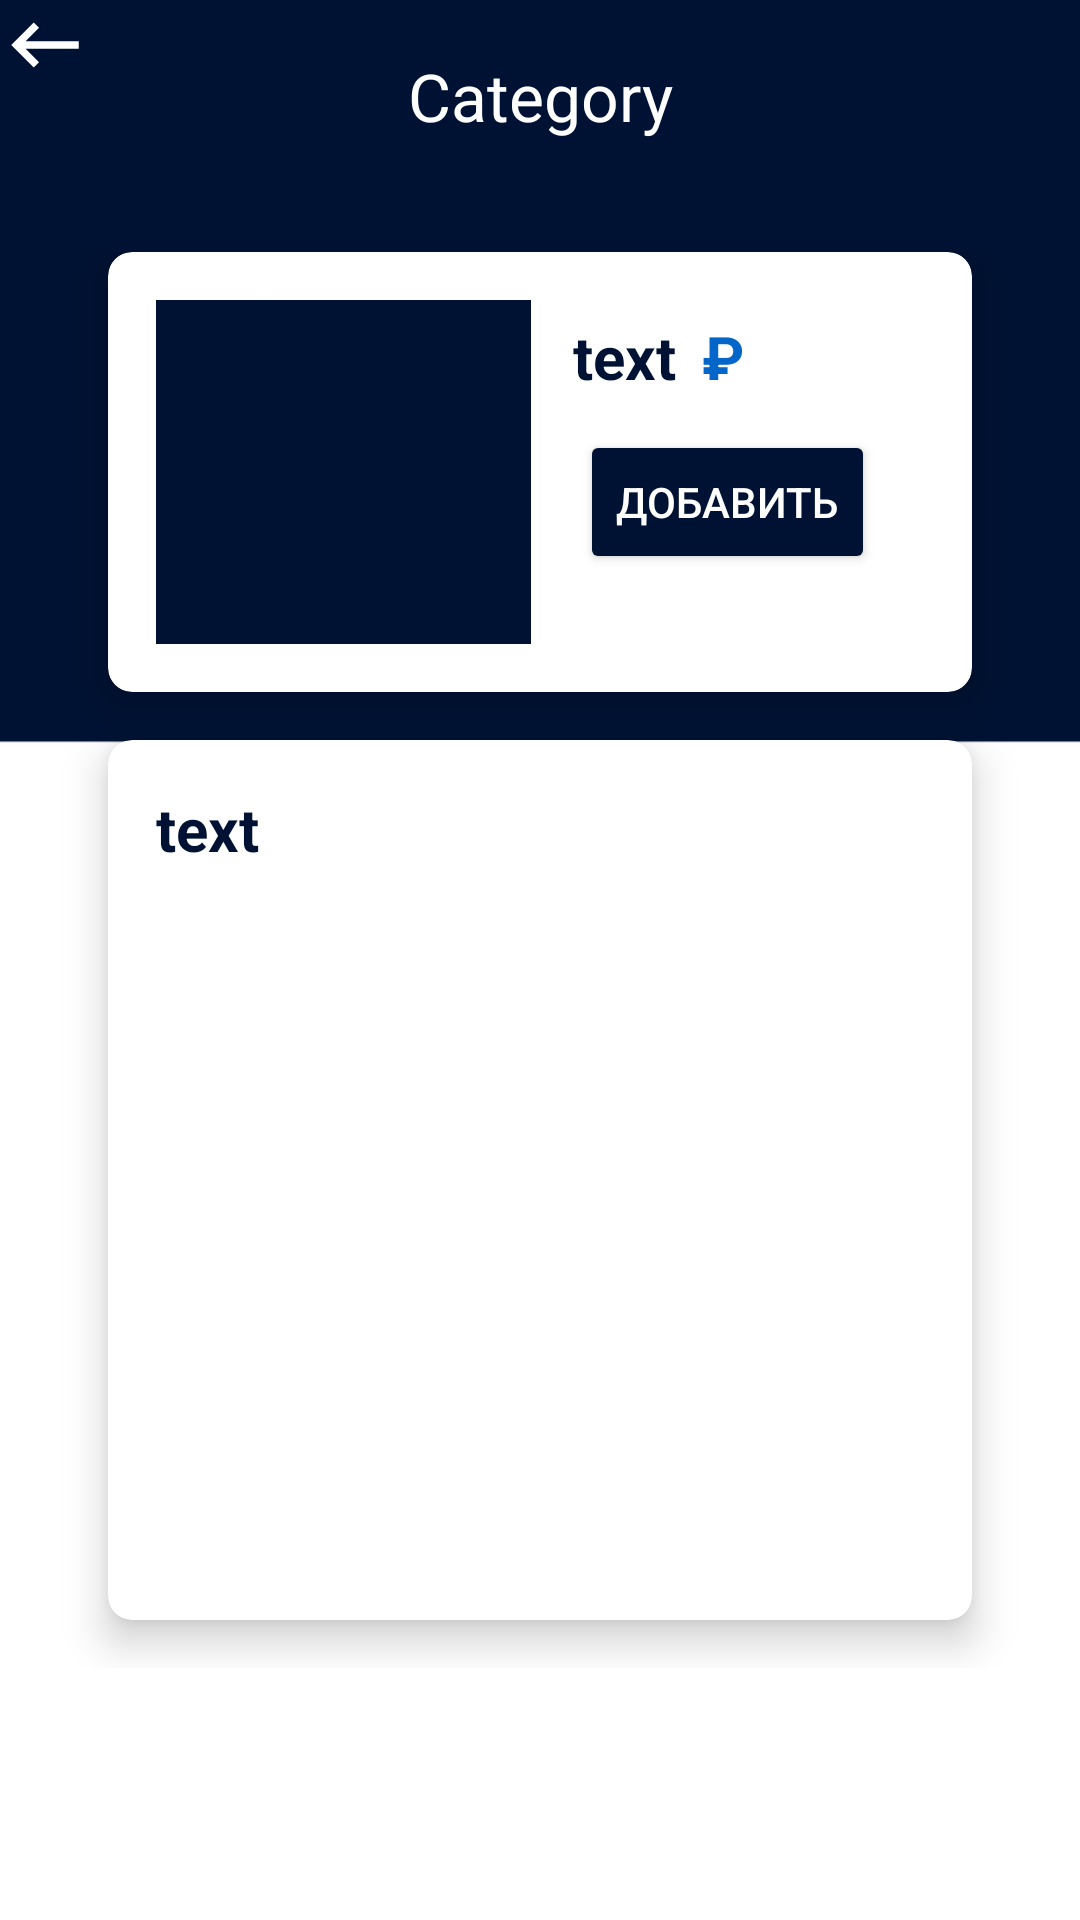

Where to tap for icons on this 1080px×1920px app screen, as (x=x, y=y):
keyboard backspace: (x=45, y=45)
